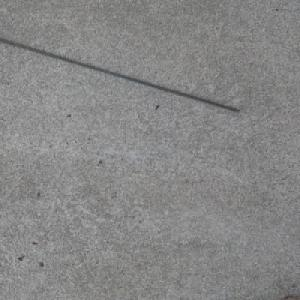LuggagePart: (0, 38, 240, 112)
